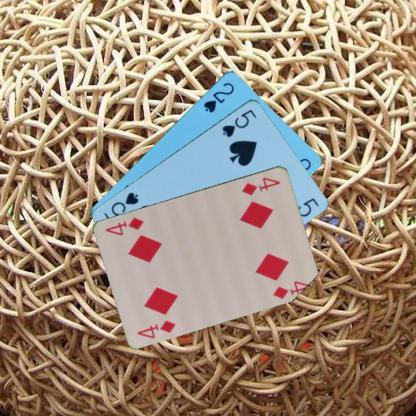2s: (200, 79, 236, 114)
4d: (134, 317, 176, 340), (239, 174, 282, 196)
5s: (220, 106, 258, 139)
